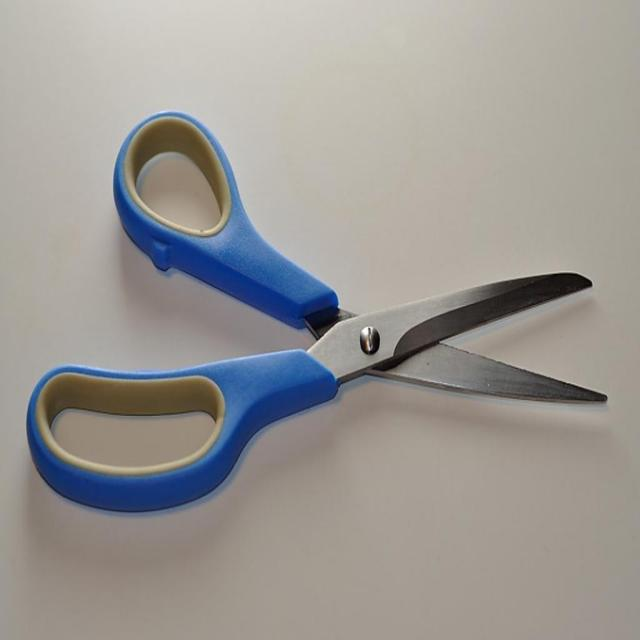scissor: (28, 103, 609, 523)
